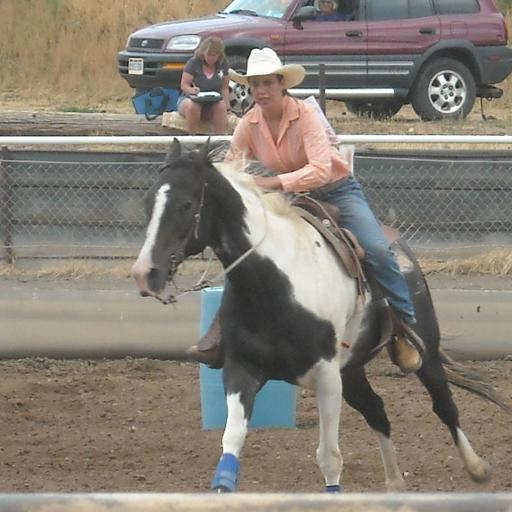horse: (130, 137, 512, 492)
